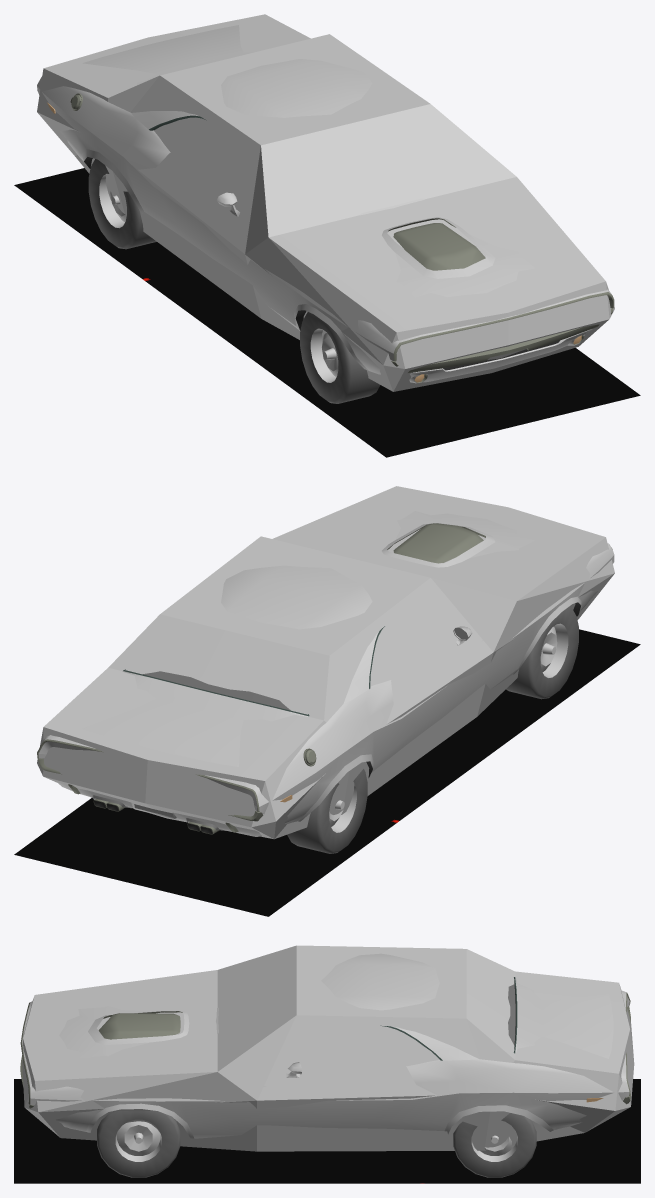
File: Stranger.fbx
The picture shows the model from 3 angles, top to bottom: view 1: azimuth 30°, elevation 25°; view 2: azimuth 150°, elevation 25°; view 3: azimuth 270°, elevation 25°; orthographic projection. The views are drawn at different scales.
Parts seen in each view (by area): view 1: Stranger_body_col, Stranger_body, CarShadow, Stranger_wheel_FR, Stranger_wheel_RR; view 2: Stranger_body_col, Stranger_body, CarShadow, Stranger_wheel_FR, Stranger_wheel_RR; view 3: Stranger_body_col, Stranger_body, CarShadow, Stranger_wheel_FL, Stranger_wheel_RL.
Part boxes in pixels (box(x1,y1,x2,y2)): Stranger_body_col: box(37, 14, 614, 391); Stranger_body: box(37, 25, 614, 383); CarShadow: box(14, 168, 640, 457); Stranger_wheel_FR: box(300, 312, 380, 403); Stranger_wheel_RR: box(88, 159, 156, 249); Stranger_body_col: box(37, 486, 614, 839); Stranger_body: box(37, 511, 614, 836); CarShadow: box(14, 629, 640, 916); Stranger_wheel_FR: box(506, 606, 578, 699); Stranger_wheel_RR: box(287, 769, 367, 853); Stranger_body_col: box(22, 945, 634, 1151); Stranger_body: box(20, 953, 630, 1139); CarShadow: box(14, 1079, 640, 1183); Stranger_wheel_FL: box(97, 1110, 180, 1177); Stranger_wheel_RL: box(453, 1113, 536, 1177).
Size of the model in its own units: 1.96 by 1.33 by 4.97.
